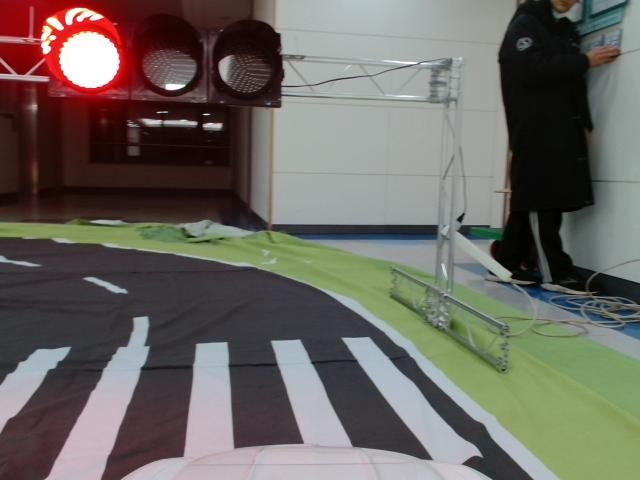crosswalk: (1, 336, 485, 479)
traffic light-red-: (44, 10, 283, 108)
